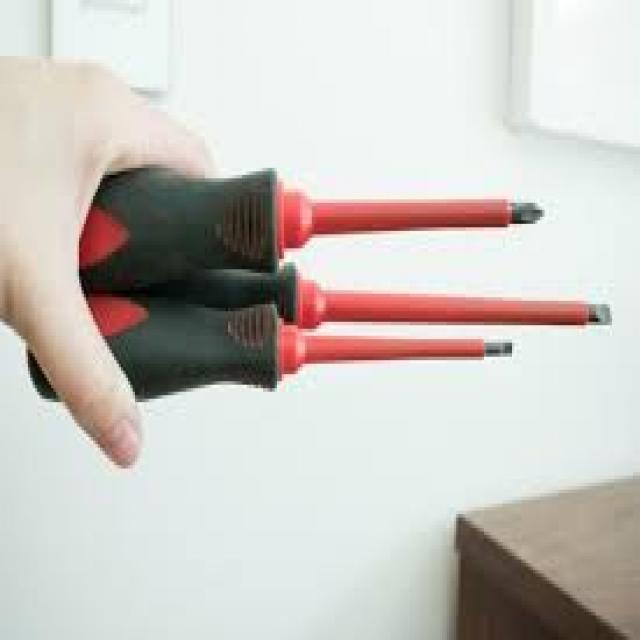screwdriver: (78, 156, 553, 286), (27, 298, 520, 406), (75, 259, 622, 329)
